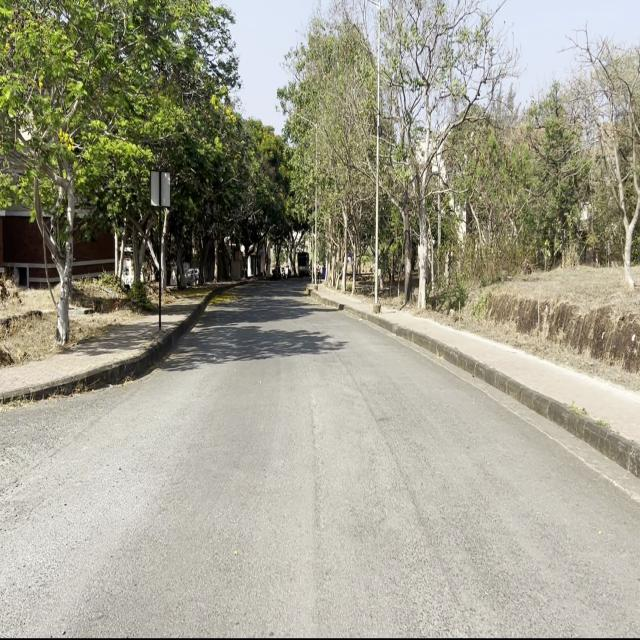Road: (1, 288, 637, 632)
